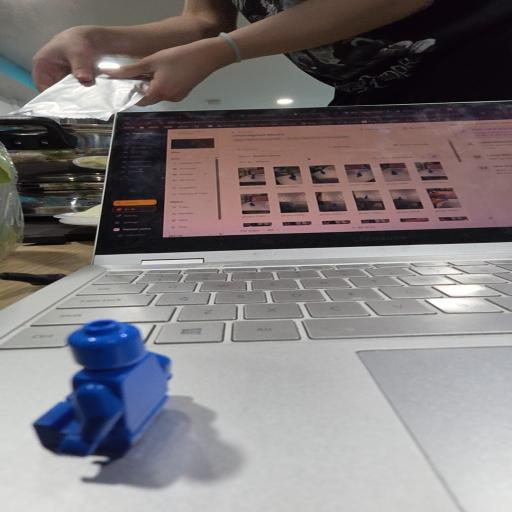Blue: (34, 320, 170, 456)
